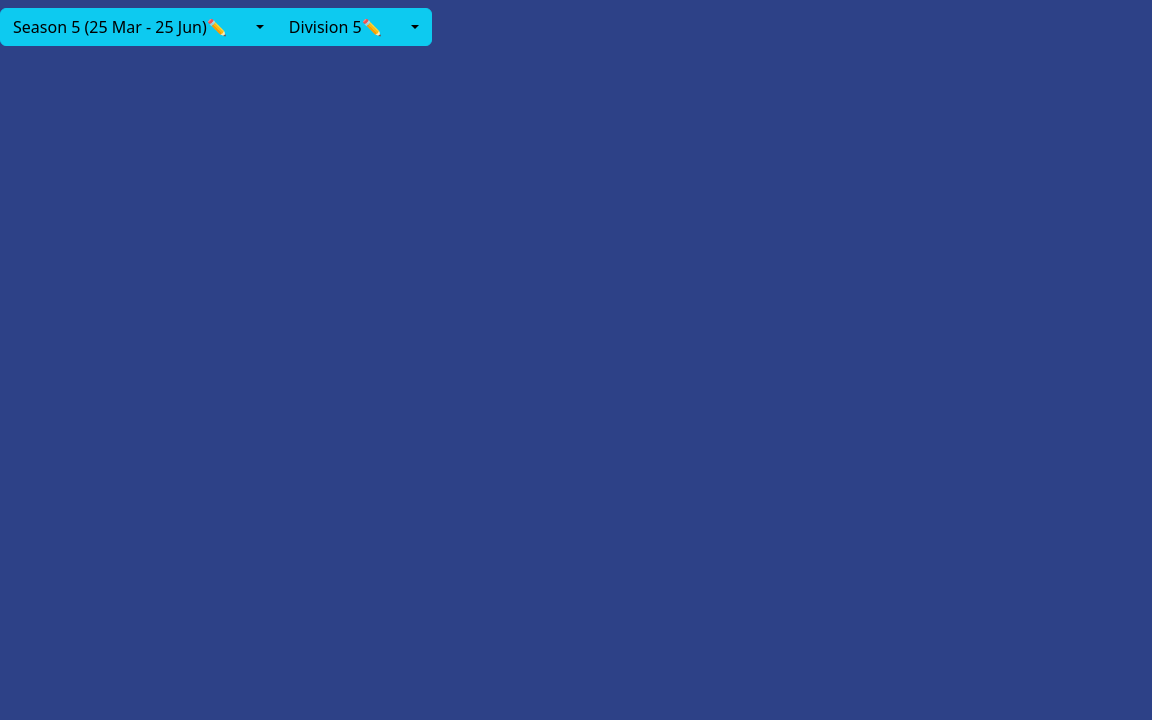
Scenario: DivisionControls › interactivity › when logged in › can show edit season dialog
Click the button "Season 5 (25 Mar - 25 Jun)✏" at point(120, 27), box [0,8,240,46]
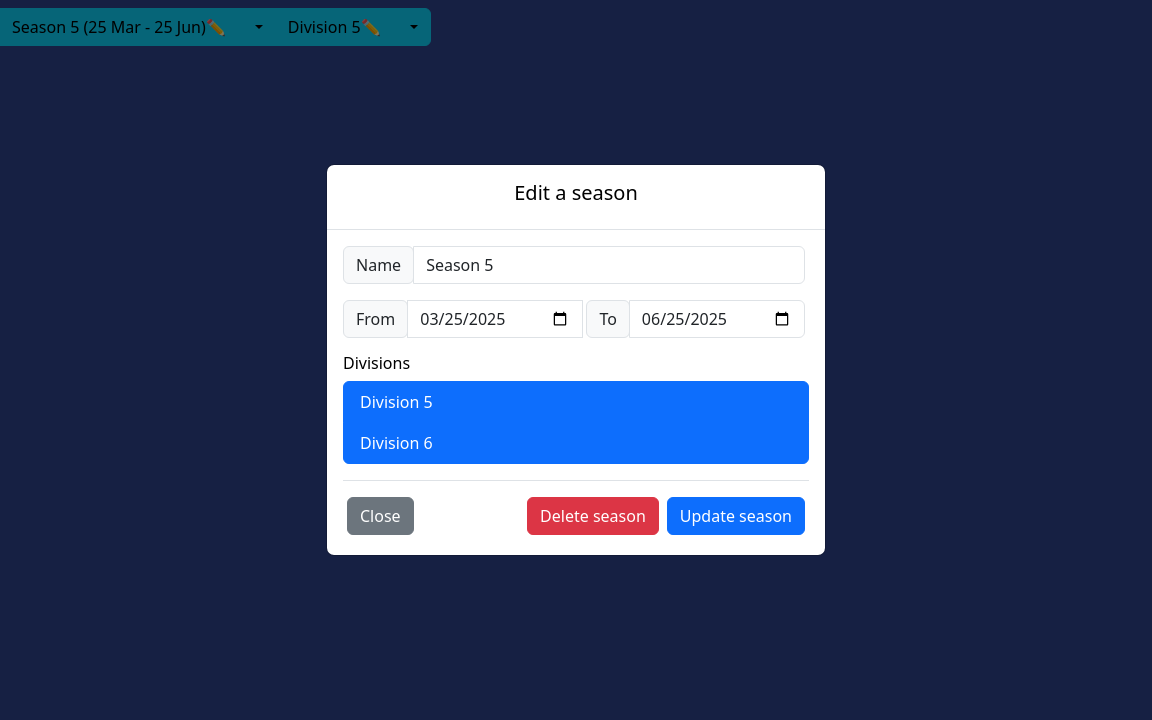
Expected: the element with class "modal-dialog" is shown, [326,164,826,556]
Expected: the element with class "modal-dialog" shows "Edit a season", [514,179,638,206]
